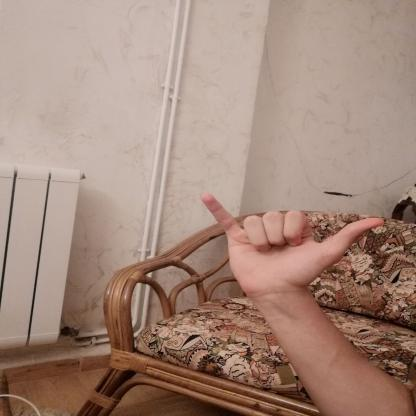YA: (180, 184, 397, 310)
